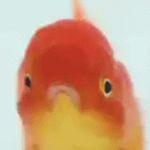goldfish: (11, 15, 147, 150)
